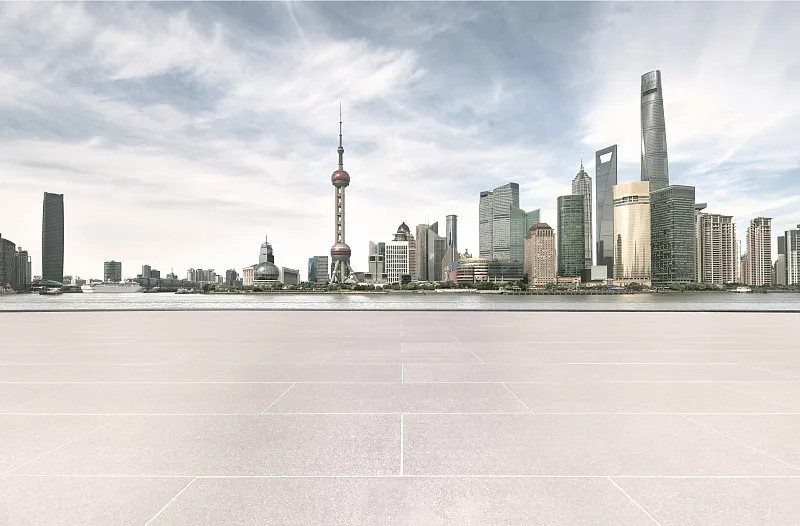Oriental: (330, 102, 355, 283)
